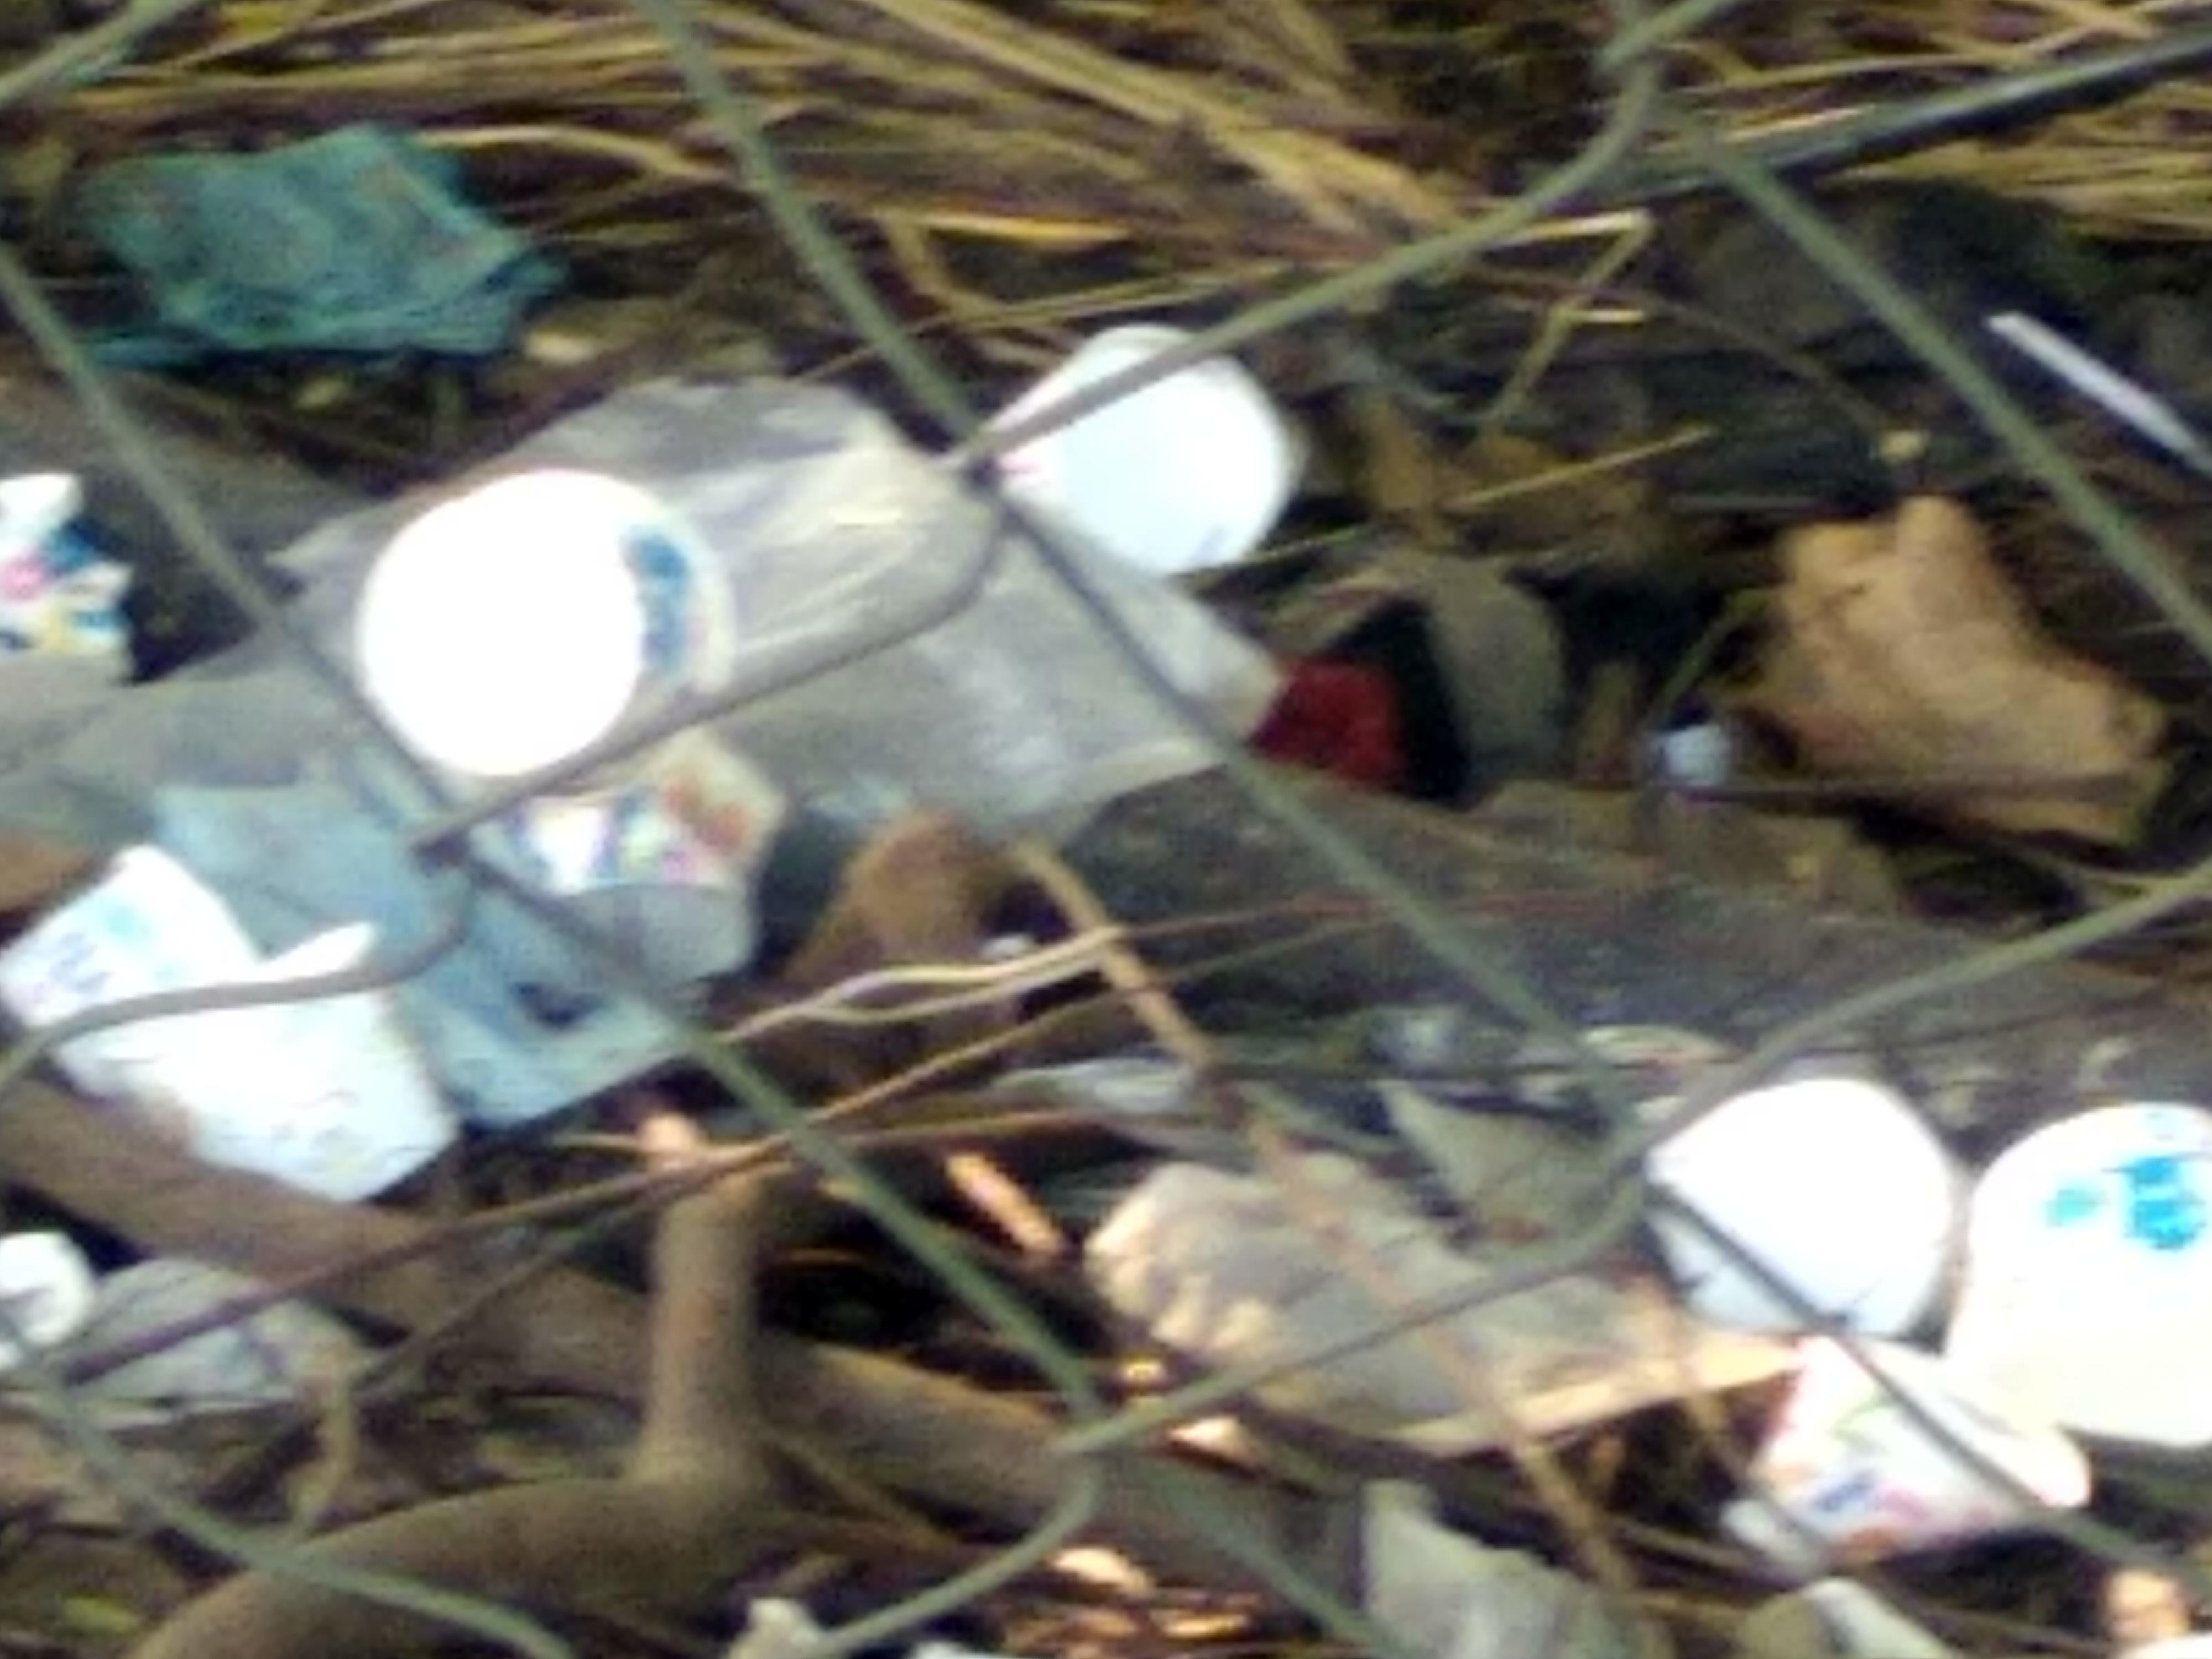trash: (0, 317, 1345, 1239)
